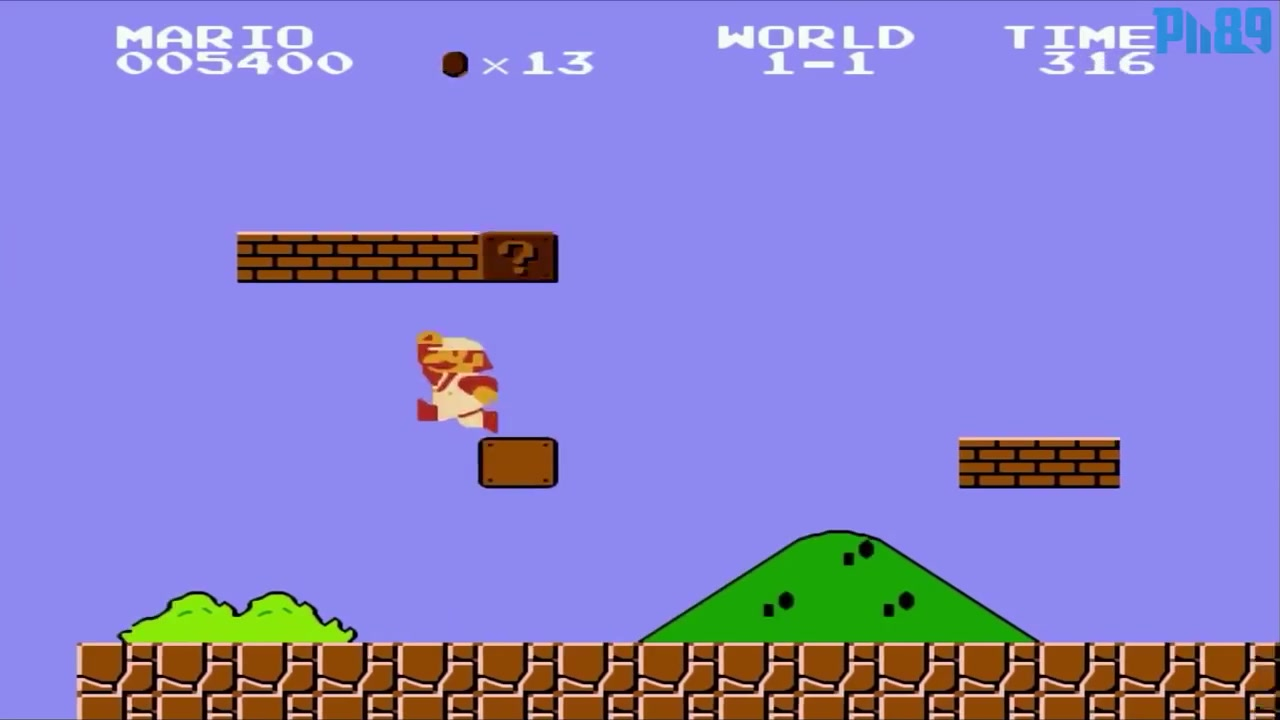mario: (405, 334, 510, 438)
